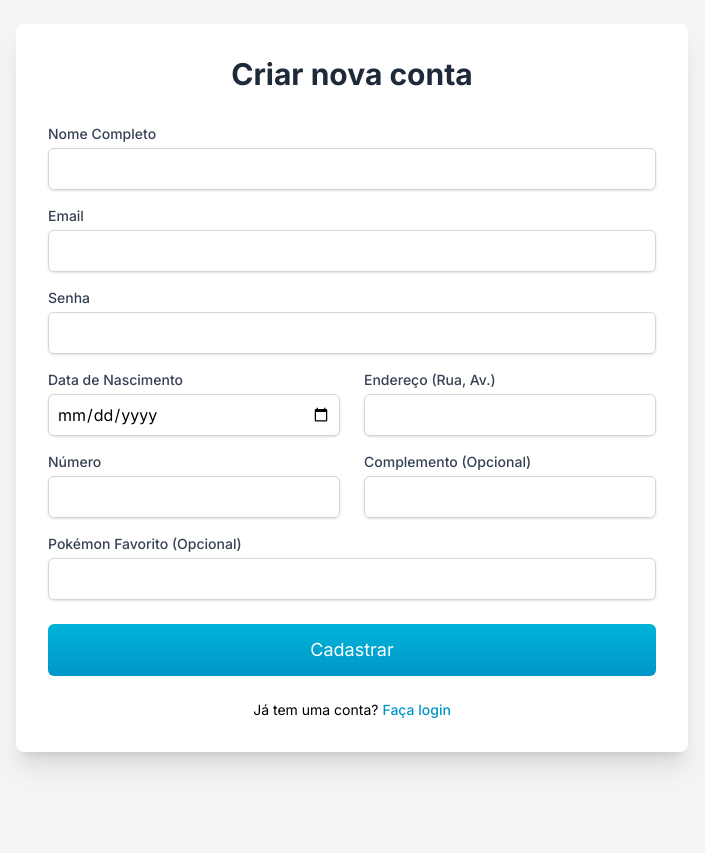
Scenario: Página de Cadastro (Cadastro.jsx) › Validação de Formulário › 6. deve mostrar erros "obrigatório" para todos os campos obrigatórios
(page scrolled)
Click the button "Cadastrar" at (352, 650), box [48,624,656,676]
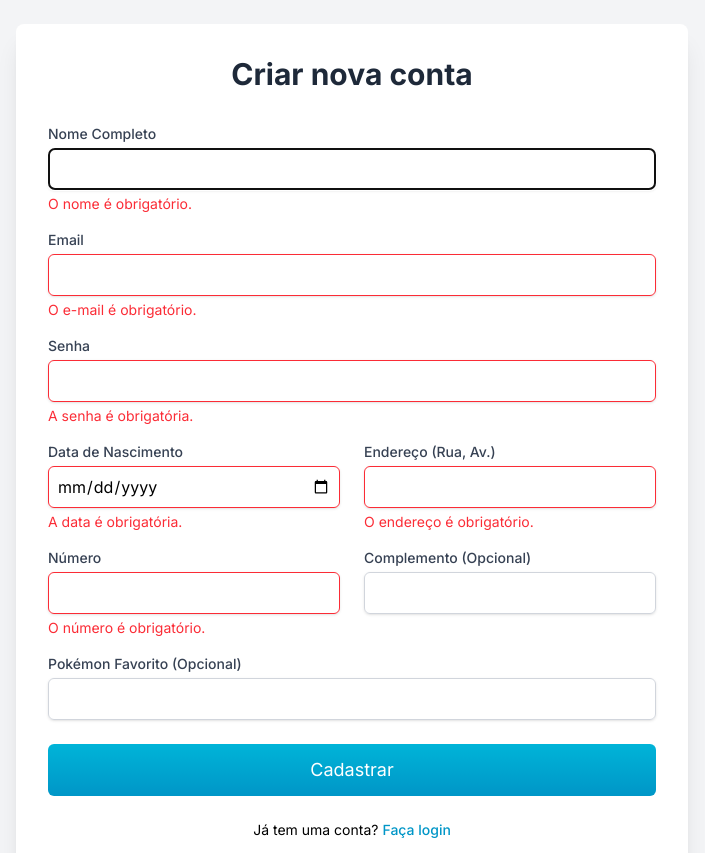
Check: the text "O nome é obrigatório." is shown, box [48,195,192,212]
Check: the text "O e-mail é obrigatório." is shown, box [48,301,196,318]
Check: the text "A senha é obrigatória." is shown, box [48,407,193,424]
